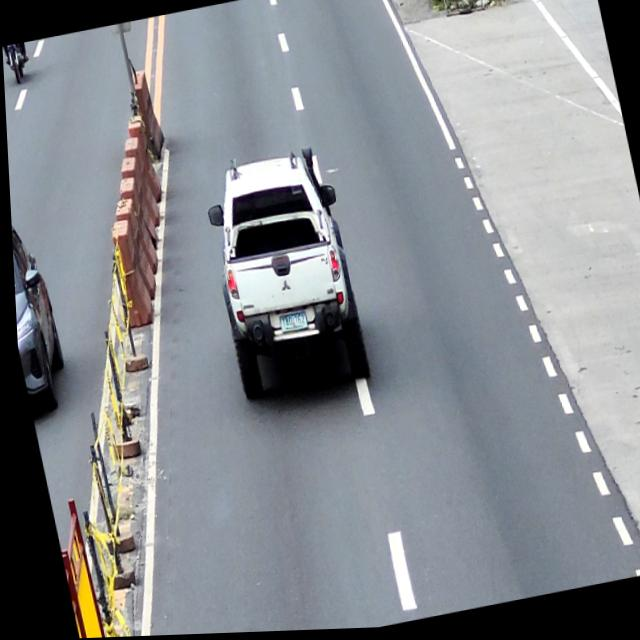Car: (195, 150, 372, 405), (9, 212, 69, 415)
License-Plate: (276, 313, 305, 335)
